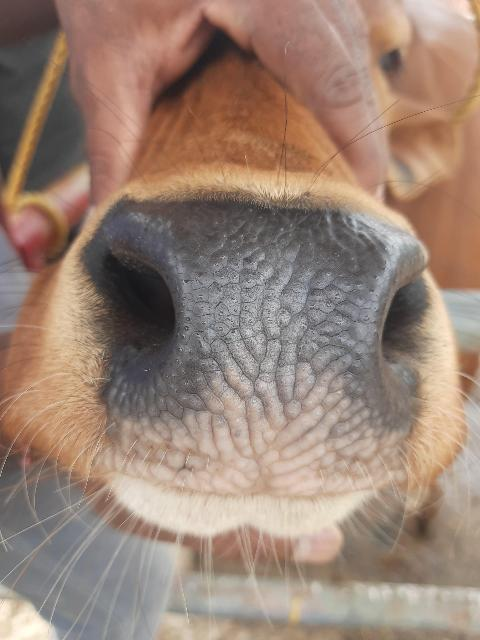Muzzle: (92, 217, 402, 488)
